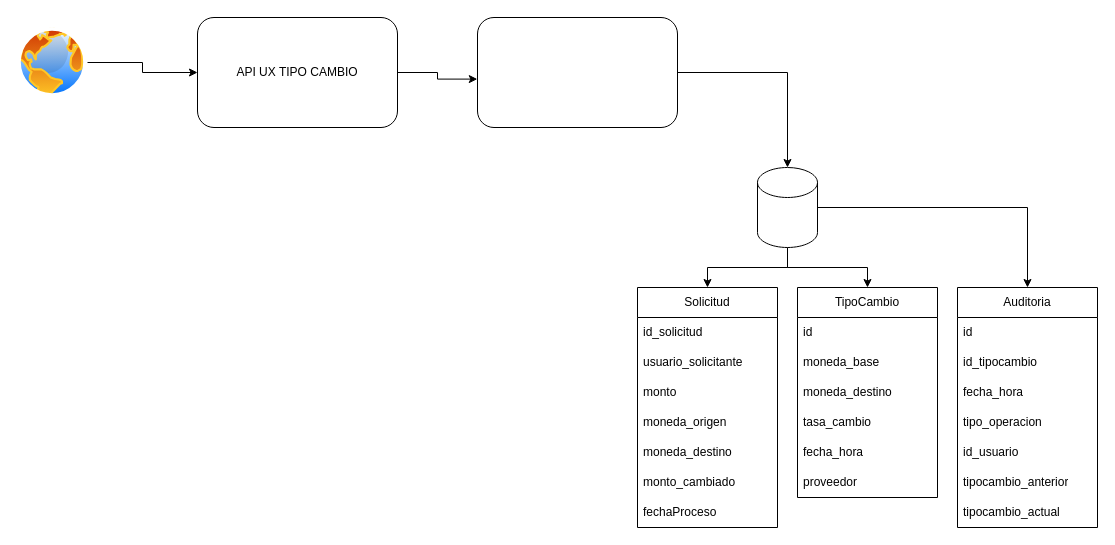
The diagram is 1115 pixels wide and 545 high, and some of its shapes have lost their labels. Each missing label, with the centre of its shape:
API SP TIPO CAMBIO: point 577,72
H2: point 787,207
